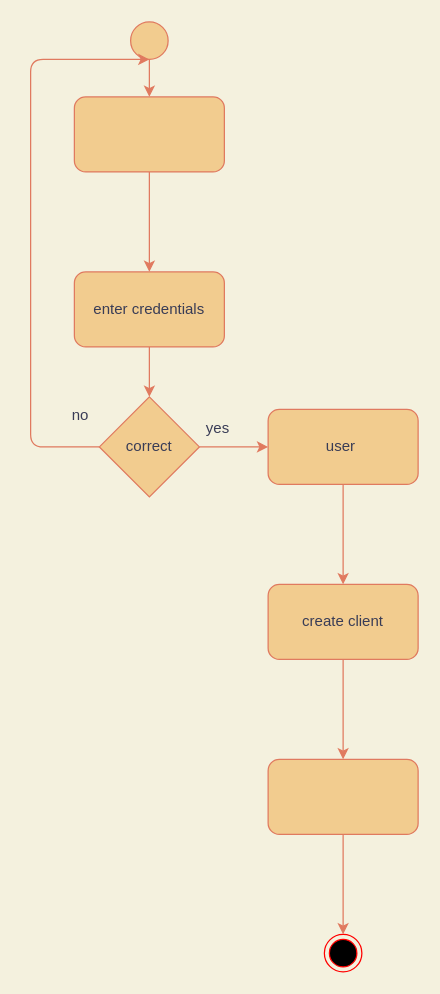
Some shapes in this 440 by 994 pixel diagram are drawn without their labels. The centre of each missing label's shape, as x and y in pixels:
"add client enter client information" goes at point 342,796.
"login page" goes at point 148,134.
